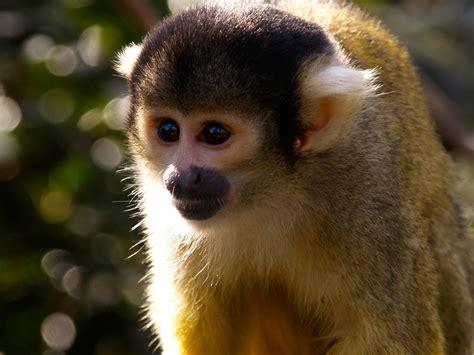monkey: (116, 5, 474, 355)
